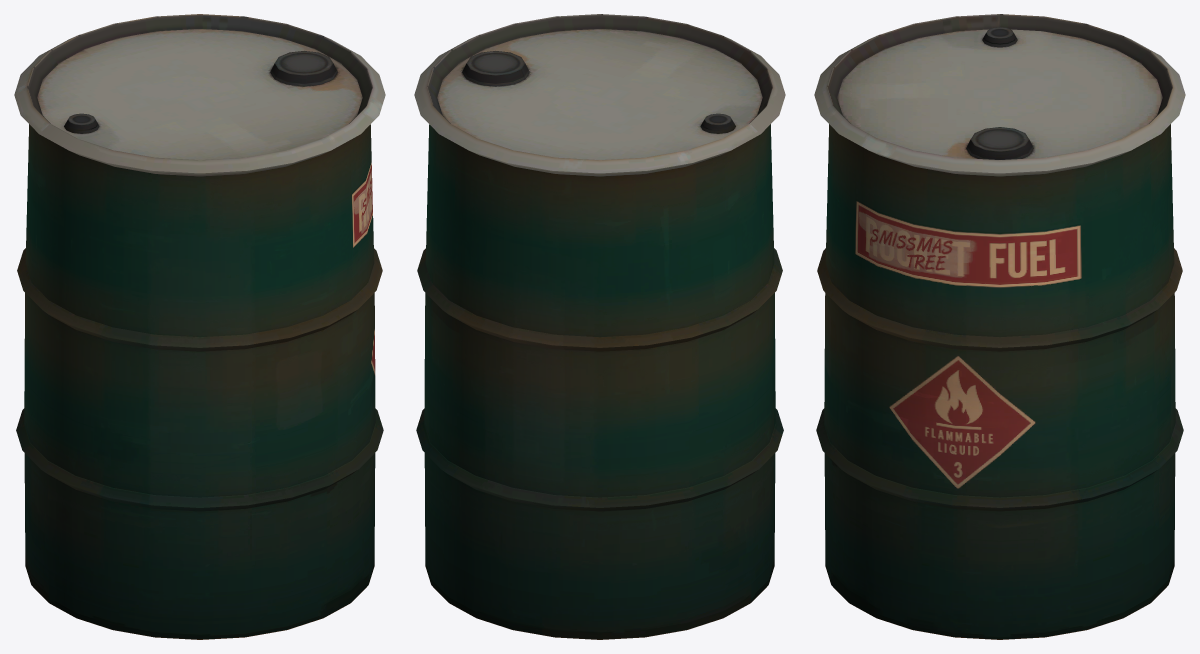
The model's file is xmas_barrel.glb.
3 views of the same model, side by side, from view 1: azimuth 30°, elevation 25°; view 2: azimuth 150°, elevation 25°; view 3: azimuth 270°, elevation 25° (orthographic).
Parts seen in each view (by area): view 1: xmas_barrel; view 2: xmas_barrel; view 3: xmas_barrel.
Boxes of the visible parts, bbox=[...] form: xmas_barrel: bbox=[14, 14, 385, 639]; xmas_barrel: bbox=[414, 14, 785, 639]; xmas_barrel: bbox=[814, 14, 1185, 639].
Size of the model in its own units: 1.07 by 1.52 by 1.07.
Materials: 1 (1 with a texture image).
